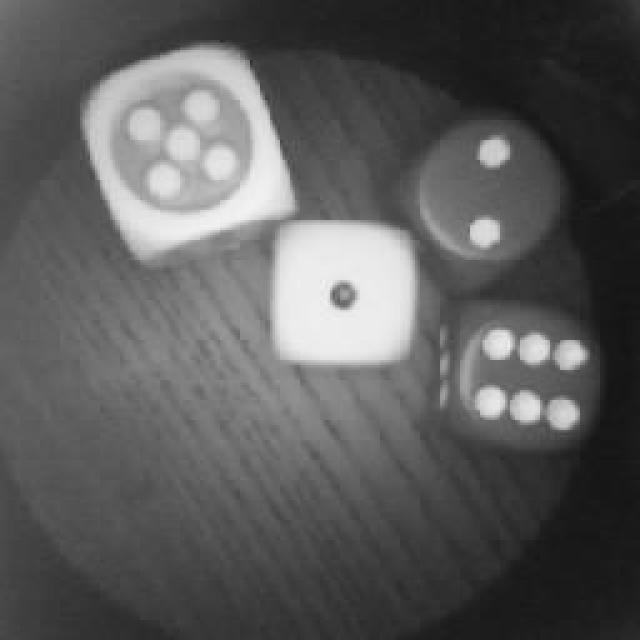dice_1: (260, 212, 428, 372)
dice_2: (400, 105, 582, 293)
dice_5: (72, 32, 300, 262)
dice_6: (420, 292, 612, 468)
